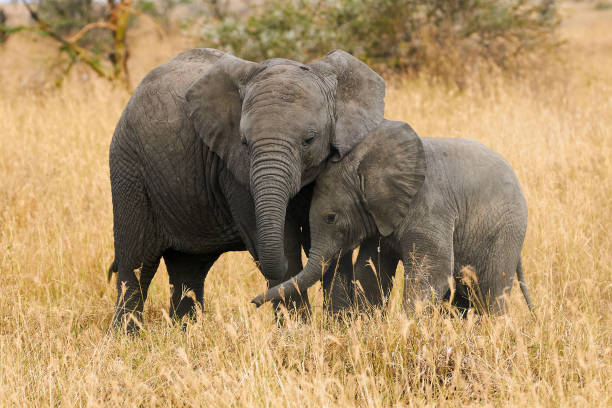africanelephant: (201, 75, 339, 251)
